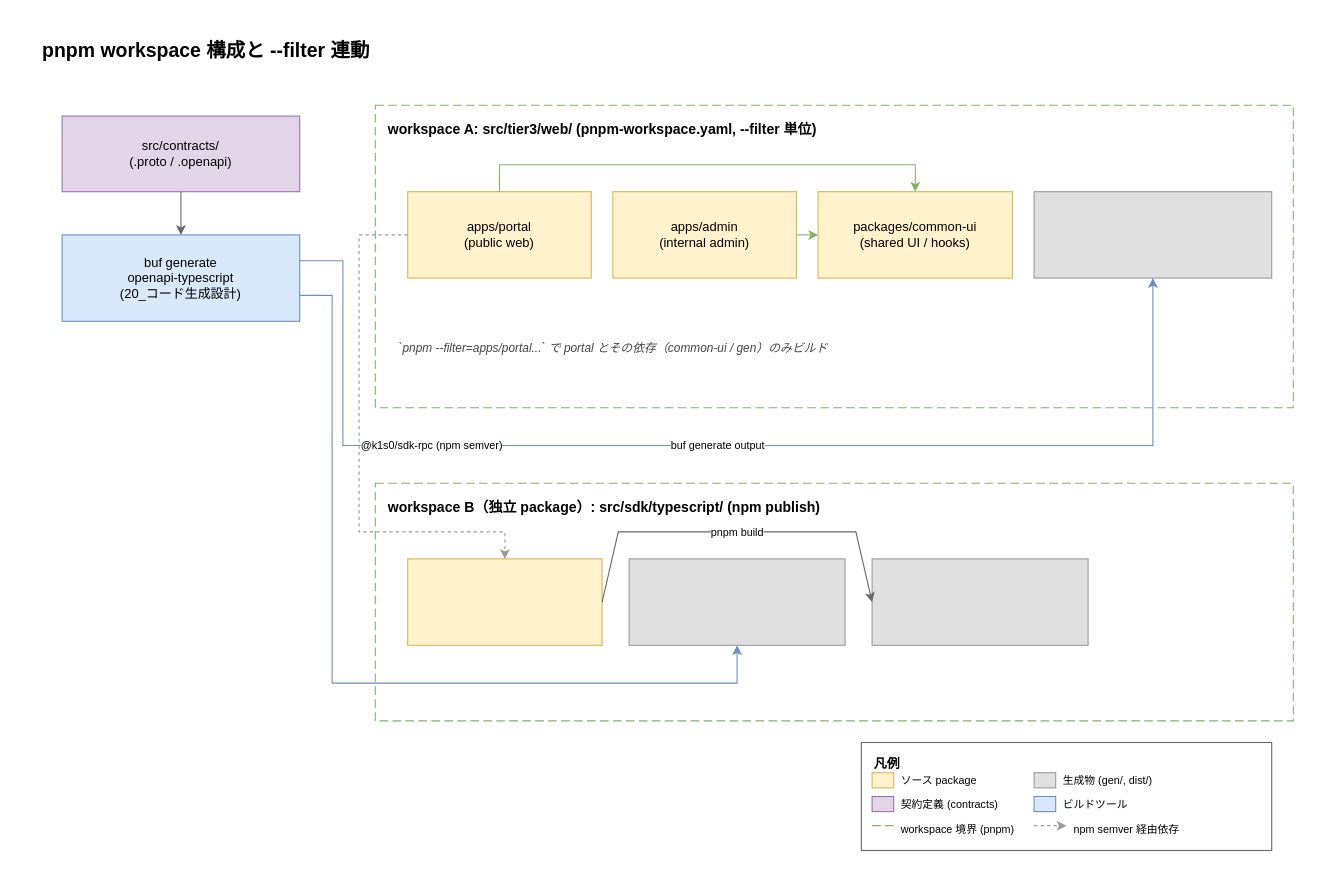
This 1333x879 diagram has some shape labels left out. Each missing label, with the centre of its shape:
"@k1s0/sdk-rpc src/" goes at point (504, 601).
"@k1s0/sdk-rpc src/gen/ // Code generated" goes at point (736, 601).
"dist/ (npm publish output)" goes at point (979, 601).
"packages/gen/ // Code generated. DO NOT EDIT." goes at point (1152, 234).
